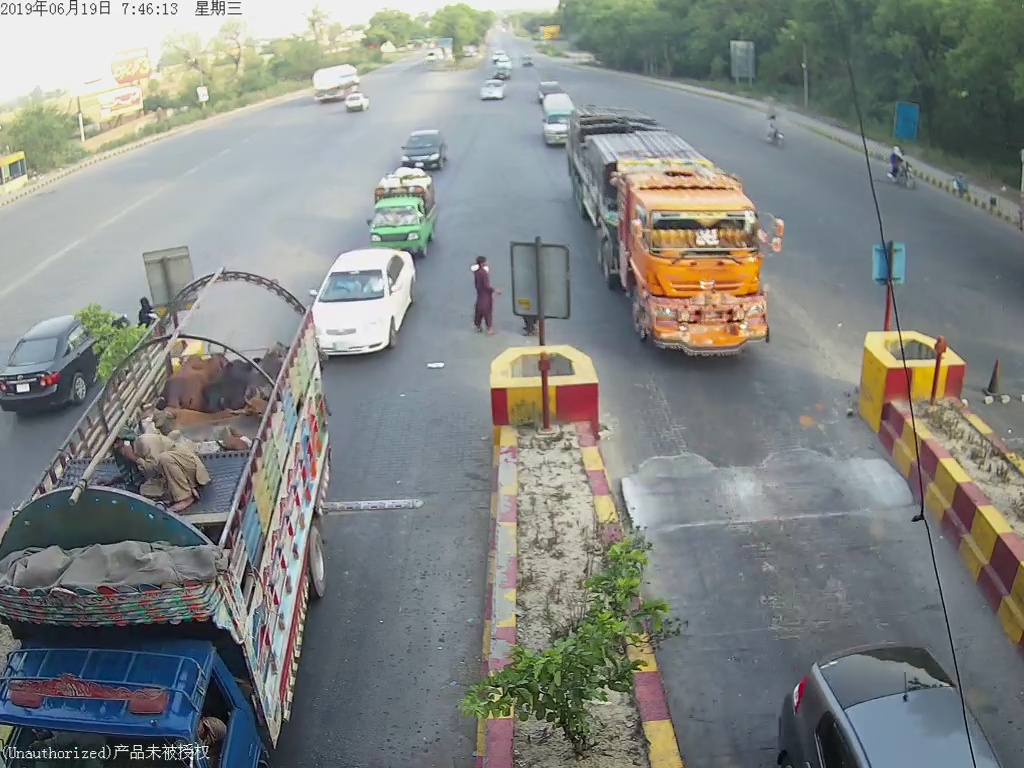Cat-1: (312, 246, 421, 361)
Cat-5: (573, 107, 775, 363)
